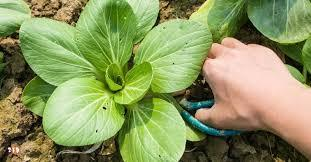Healthy-Pechay: (25, 1, 244, 162), (235, 0, 311, 44), (0, 0, 34, 41)
